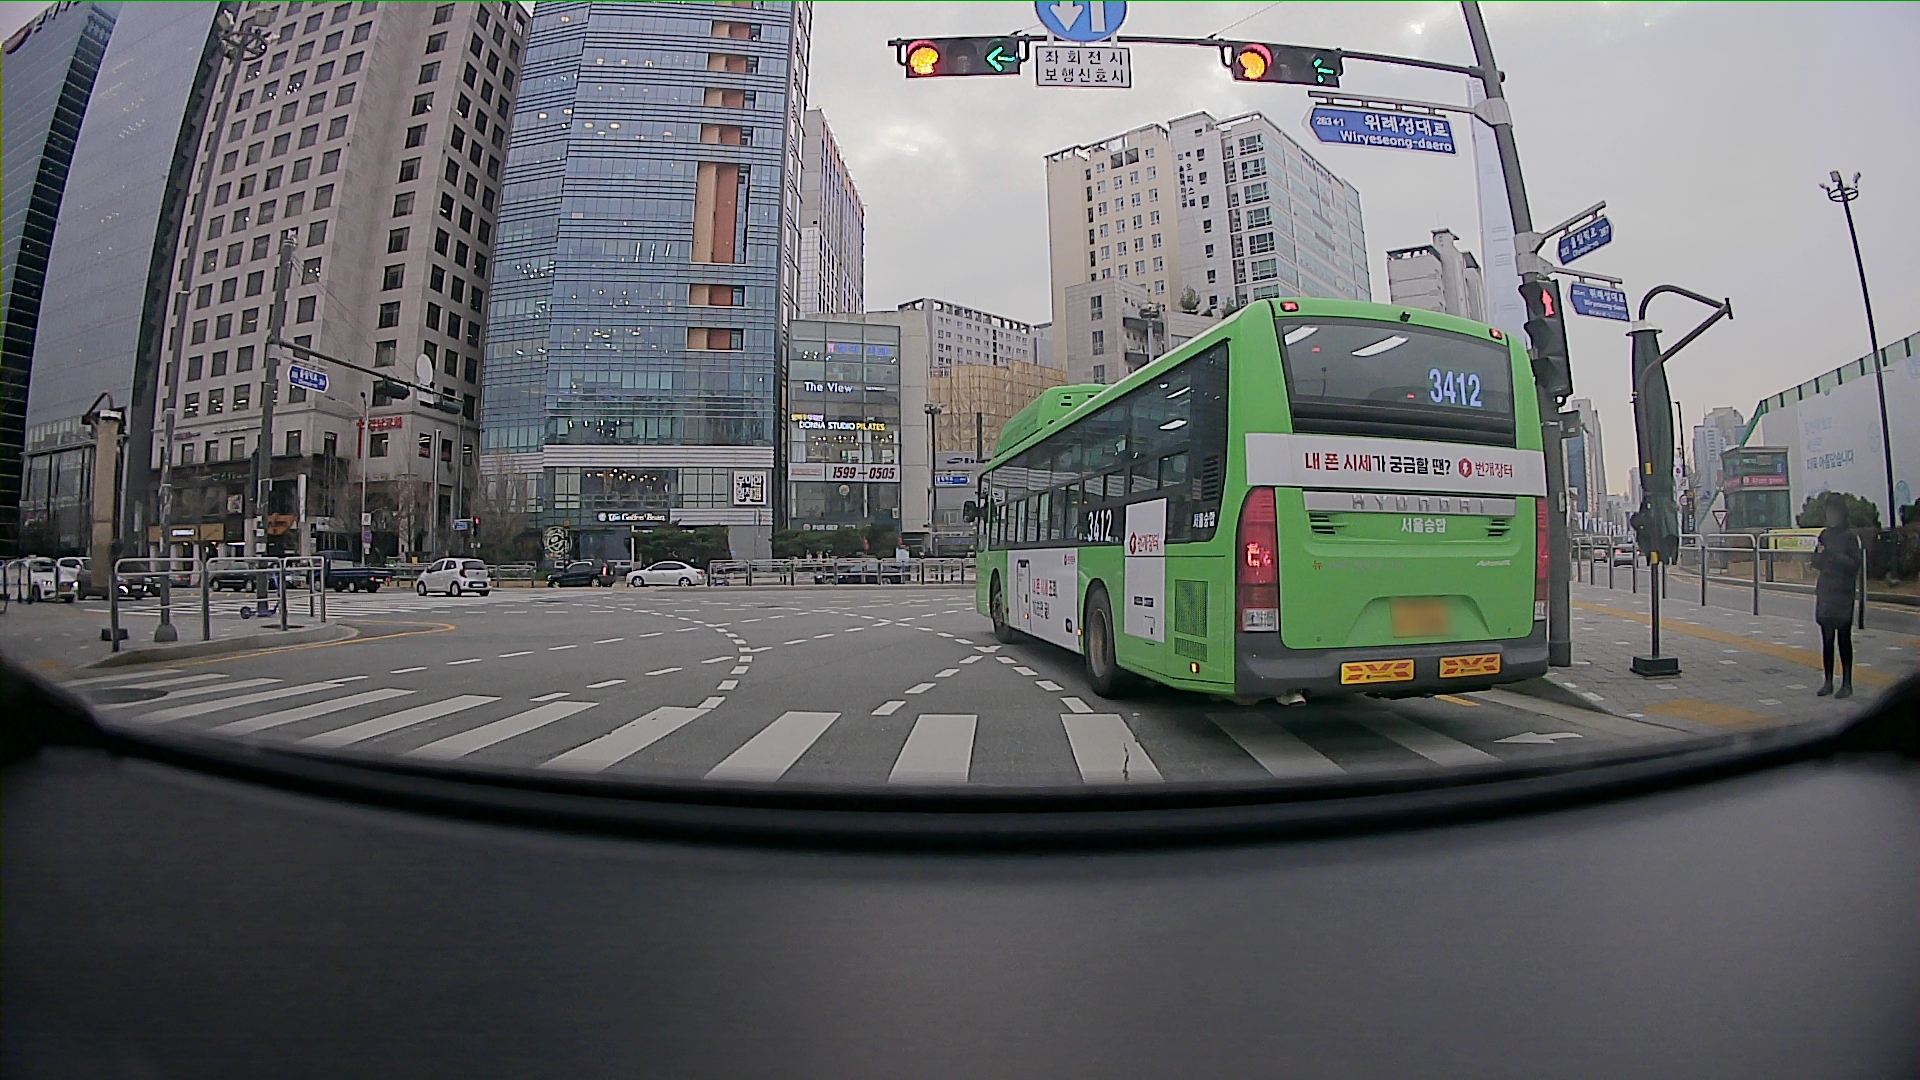trafficLight: (895, 32, 1022, 80), (1230, 38, 1342, 84)
trafficLightBar: (1520, 276, 1577, 402)
trafficSignCircle: (1035, 1, 1127, 37)
